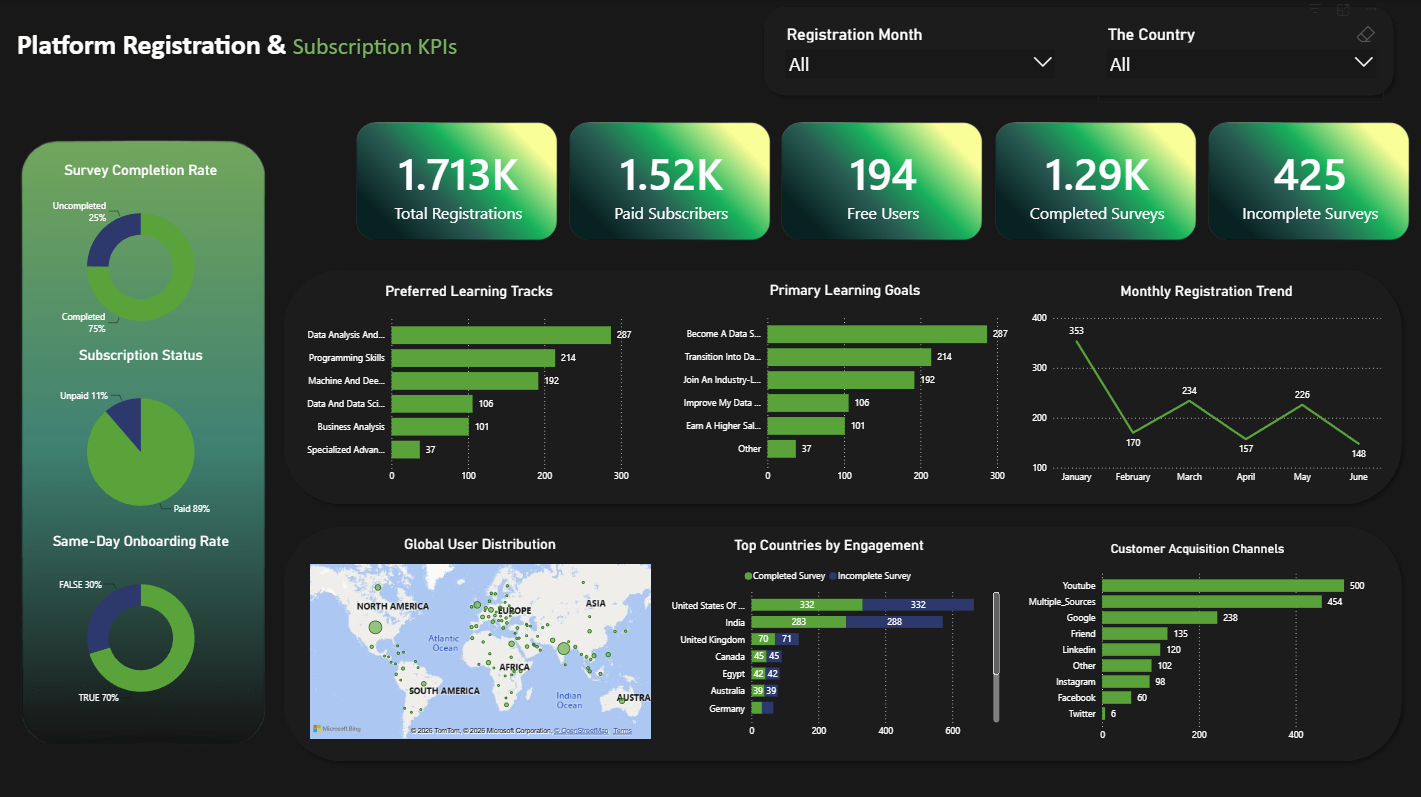

What the dashboard file says about the page in this screenshot:
{"tool":"powerbi","page":{"name":"Page 1","canvas":[1920,1080],"ordinal":0},"visuals":[{"type":"image","box":[477.7,138.7,286.6,217.3],"z":0},{"type":"image","box":[1625.7,138.7,286.6,217.3],"z":1000},{"type":"image","box":[1339.1,138.7,286.6,217.3],"z":2000},{"type":"image","box":[1050.9,138.7,286.6,217.3],"z":3000},{"type":"image","box":[764.3,138.7,286.6,217.3],"z":4000},{"type":"image","box":[21.7,126.3,344.9,945.1],"z":5000},{"type":"shape","box":[377.5,355.8,1523.5,334],"z":6000},{"type":"shape","box":[377.5,702,1523.5,334],"z":7000},{"type":"shape","box":[1022.9,1.7,866.2,137.8],"z":8000},{"type":"cardVisual","fields":{"Data":["CountNonNull(data_visualization1.user_id)"]},"box":[477.7,138.7,286.6,217.3],"z":9000},{"type":"cardVisual","fields":{"Data":["data_visualization1.Count of Plan for Paid"]},"box":[764.3,138.7,286.6,217.3],"z":10000},{"type":"cardVisual","fields":{"Data":["data_visualization1.Count of Plan for Unpaid"]},"box":[1050.9,138.7,286.6,217.3],"z":11000},{"type":"cardVisual","fields":{"Data":["data_visualization1.Count of Onboarding Survey for Completed"]},"box":[1339.1,138.7,286.6,217.3],"z":12000},{"type":"cardVisual","fields":{"Data":["data_visualization1.Count of Onboarding Survey for Uncompleted"]},"box":[1625.7,138.7,286.6,217.3],"z":13000},{"type":"map","title":"Global User Distribution","fields":{"Category":["data_visualization1.onboarding_country"],"Size":["data_visualization1.Count of Onboarding Survey for Completed"]},"box":[415.5,723.7,468.6,278.8],"z":14000},{"type":"barChart","title":"Top Countries by Engagement","fields":{"Category":["data_visualization1.onboarding_country"],"Y":["data_visualization1.Count of Onboarding Survey for Completed","CountNonNull(data_visualization1.Onboarding Survey)"]},"box":[885.5,724.1,468.6,278.8],"z":15000},{"type":"lineChart","title":"Monthly Registration Trend","fields":{"Category":["data_visualization1.Registration Month Name"],"Y":["CountNonNull(data_visualization1.Registration date)"]},"box":[1387.7,382.9,480.7,278.8],"z":16000},{"type":"donutChart","title":"Survey Completion Rate","fields":{"Y":["CountNonNull(data_visualization1.Onboarding Survey)"],"Category":["data_visualization1.Onboarding Survey"]},"box":[62.1,219.3,263.4,249.8],"z":17000},{"type":"barChart","title":"Customer Acquisition Channels","fields":{"Category":["data_visualization1.onboarding_heard_from_label"],"Y":["CountNonNull(data_visualization1.user_id)"]},"box":[1376.6,729.7,480.7,278.8],"z":18000},{"type":"donutChart","title":"Same-Day Onboarding Rate","fields":{"Category":["data_visualization1.Same_Day_Onboarded"],"Y":["CountNonNull(data_visualization1.user_id)"]},"box":[62.1,718.6,263.4,249.8],"z":19000},{"type":"barChart","title":"Primary Learning Goals","fields":{"Category":["data_visualization1.onboarding_goals_label"],"Y":["CountNonNull(data_visualization1.user_id)"]},"box":[907,381.6,468.6,278.8],"z":20000},{"type":"pieChart","title":"Subscription Status","fields":{"Category":["data_visualization1.Plan"],"Y":["CountNonNull(data_visualization1.Plan)"]},"box":[62.1,469,263.4,249.8],"z":21000},{"type":"barChart","title":"Preferred Learning Tracks","fields":{"Y":["CountNonNull(data_visualization1.user_id)"],"Category":["data_visualization1.onboarding_learn_label"]},"box":[401.9,382.9,468.5,278.4],"z":22000},{"type":"textbox","box":[21.7,28.5,693.9,119.5],"z":23000},{"type":"slicer","fields":{"Values":["data_visualization1.Custom","data_visualization1.onboarding_country"]},"box":[1482.6,29.3,385.7,110.2],"z":24000},{"type":"slicer","fields":{"Values":["data_visualization1.Registration Month Name"]},"box":[1050.4,29.3,385.7,110.2],"z":25000}]}

Visuals, with their boxes in screenshot pixels (x1, y1, x2, y2), scaled from the page's 1920x1080 canvas onto the 1421x797 screenshot:
image: box=[354, 102, 566, 263]
image: box=[1203, 102, 1415, 263]
image: box=[991, 102, 1203, 263]
image: box=[778, 102, 990, 263]
image: box=[566, 102, 778, 263]
image: box=[16, 93, 271, 791]
shape: box=[279, 263, 1407, 509]
shape: box=[279, 518, 1407, 765]
shape: box=[757, 1, 1398, 103]
cardVisual - CountNonNull(data_visualization1.user_id): box=[354, 102, 566, 263]
cardVisual - data_visualization1.Count of Plan for Paid: box=[566, 102, 778, 263]
cardVisual - data_visualization1.Count of Plan for Unpaid: box=[778, 102, 990, 263]
cardVisual - data_visualization1.Count of Onboarding Survey for Completed: box=[991, 102, 1203, 263]
cardVisual - data_visualization1.Count of Onboarding Survey for Uncompleted: box=[1203, 102, 1415, 263]
"Global User Distribution" map: box=[308, 534, 654, 740]
"Top Countries by Engagement" barChart: box=[655, 534, 1002, 740]
"Monthly Registration Trend" lineChart: box=[1027, 283, 1383, 488]
"Survey Completion Rate" donutChart: box=[46, 162, 241, 346]
"Customer Acquisition Channels" barChart: box=[1019, 538, 1375, 744]
"Same-Day Onboarding Rate" donutChart: box=[46, 530, 241, 715]
"Primary Learning Goals" barChart: box=[671, 282, 1018, 487]
"Subscription Status" pieChart: box=[46, 346, 241, 530]
"Preferred Learning Tracks" barChart: box=[297, 283, 644, 488]
textbox: box=[16, 21, 530, 109]
slicer - data_visualization1.Custom x data_visualization1.onboarding_country: box=[1097, 22, 1383, 103]
slicer - data_visualization1.Registration Month Name: box=[777, 22, 1063, 103]
